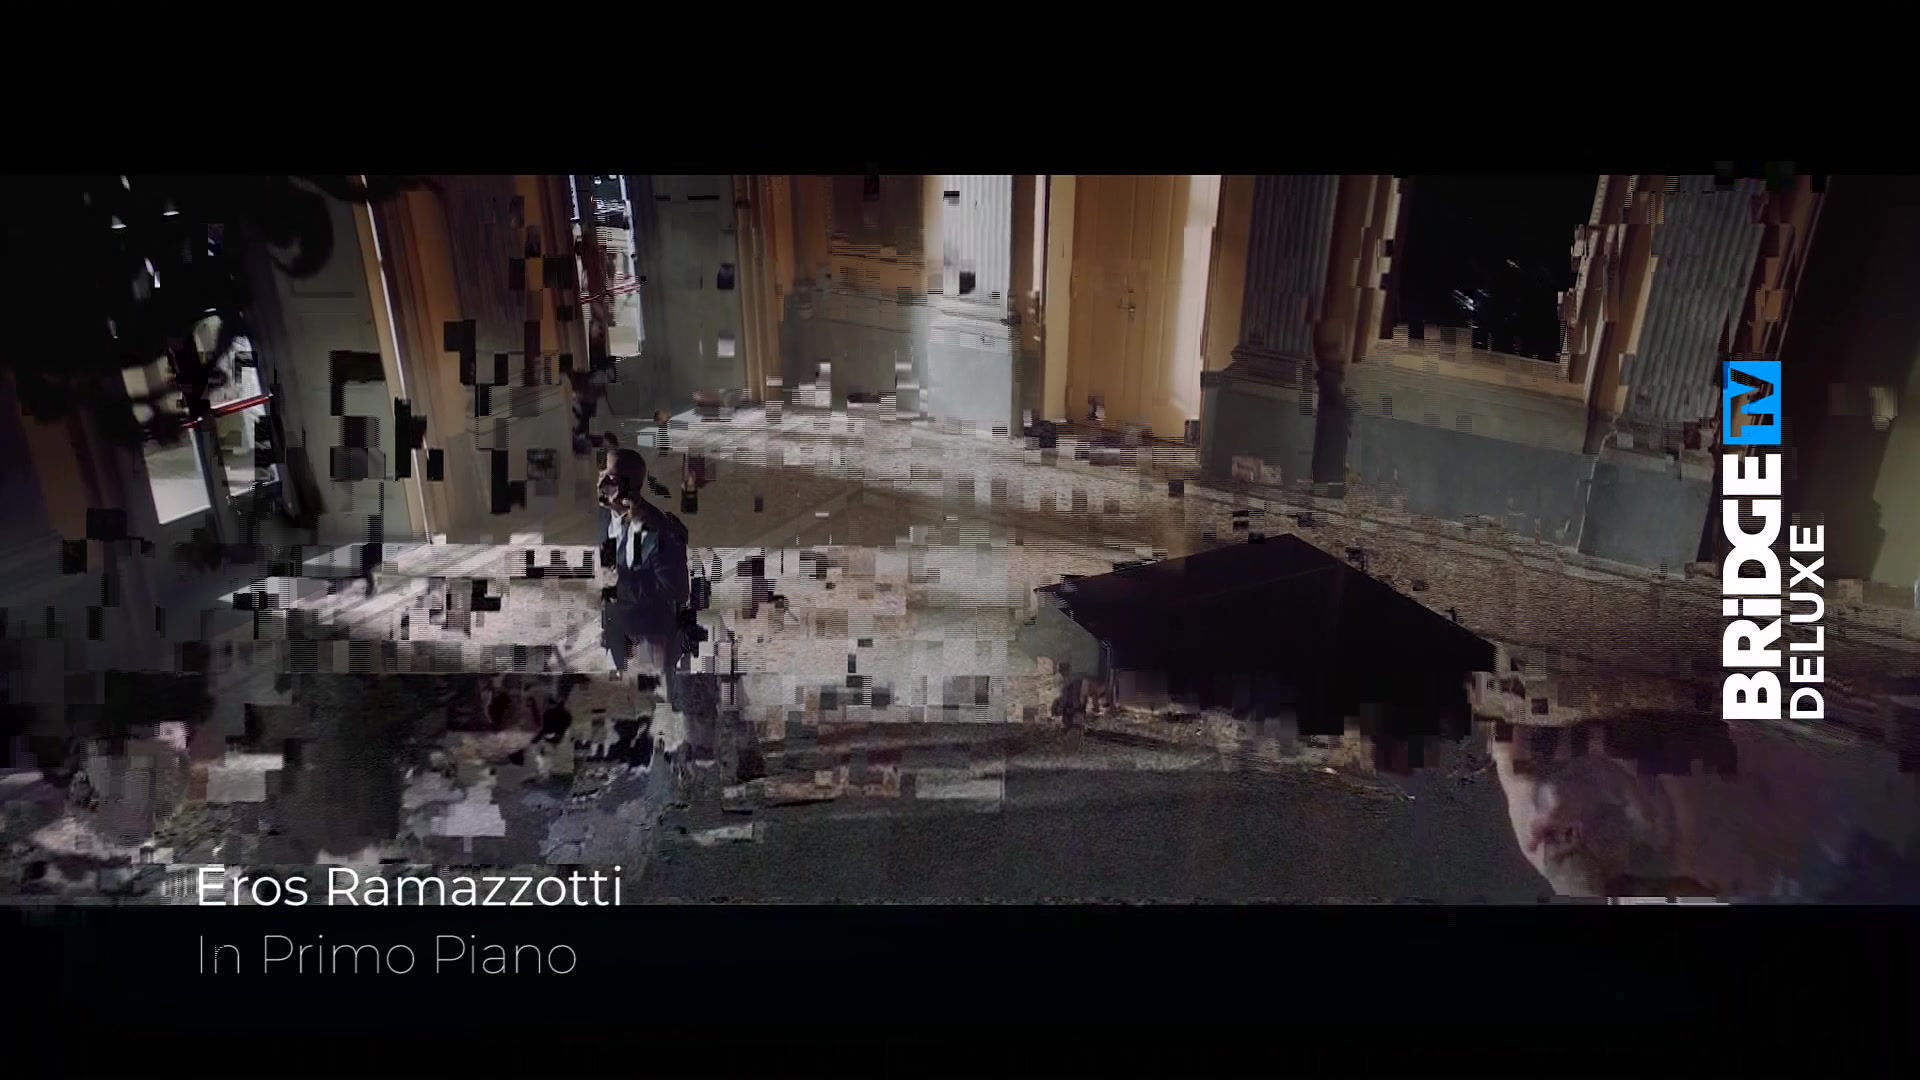Bridge_TV_Deluxe: (1716, 353, 1830, 731)
